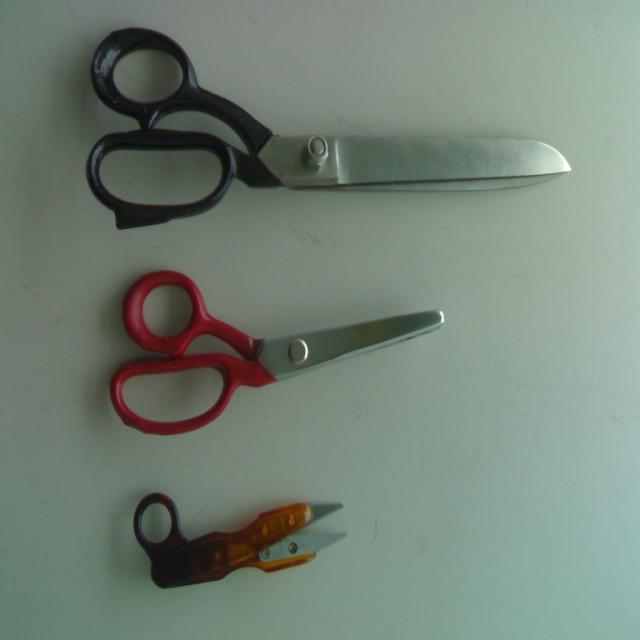scissors: (85, 26, 571, 229), (109, 269, 444, 435), (132, 492, 346, 588)
